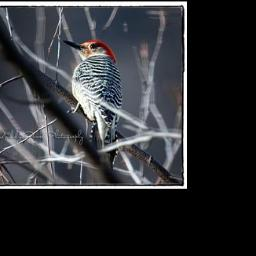Woodpecker: (59, 34, 126, 148)
